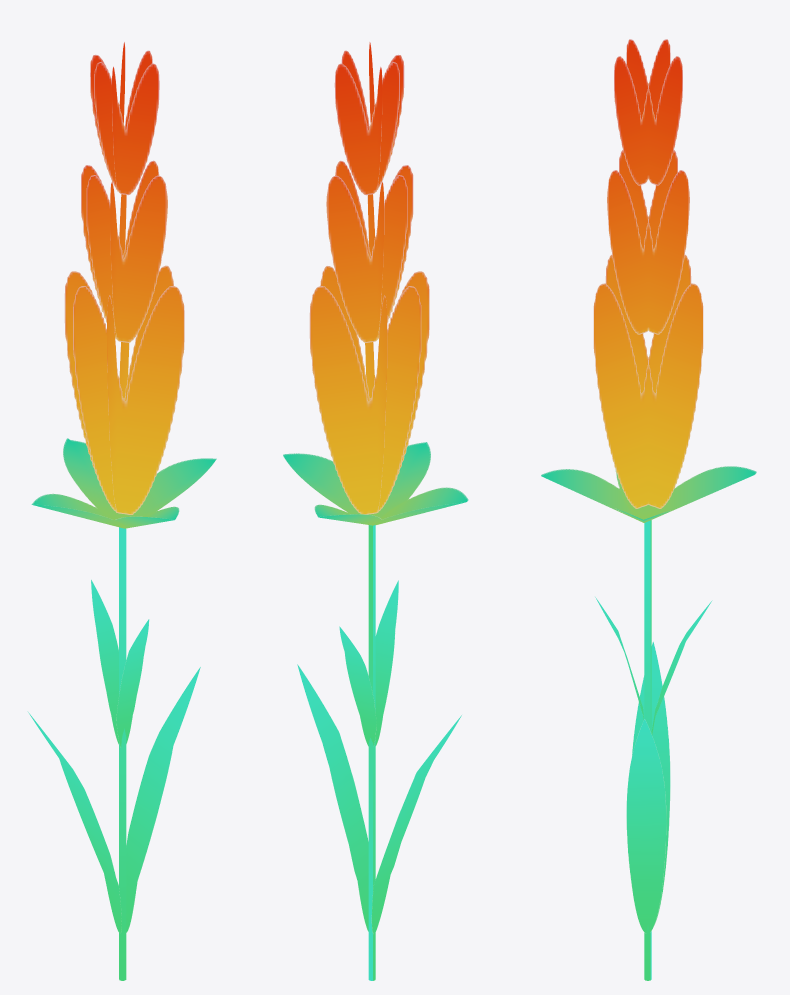
File: Flowers_n03_15.fbx
The picture shows the model from 3 angles, left to right: view 1: azimuth 30°, elevation 25°; view 2: azimuth 150°, elevation 25°; view 3: azimuth 270°, elevation 25°; orthographic projection.
Visible parts, largest first — view 1: polySurface580; view 2: polySurface580; view 3: polySurface580.
Boxes of the visible parts, bbox=[...] form: polySurface580: bbox=[27, 42, 216, 980]; polySurface580: bbox=[283, 42, 468, 980]; polySurface580: bbox=[541, 39, 756, 980].
Size of the model in its own units: 28.59 by 118 by 28.58.
Materials: 1 (1 with a texture image).
